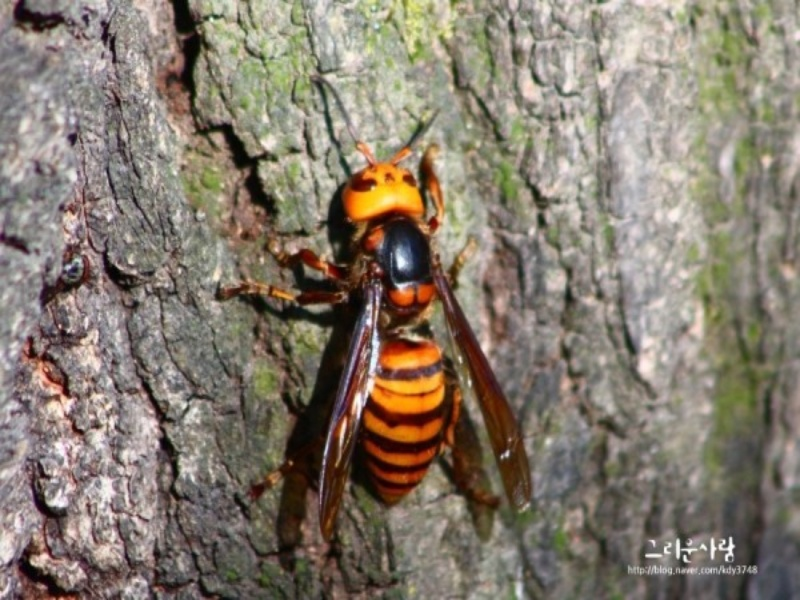asian_giant_hornet: (295, 142, 457, 510)
